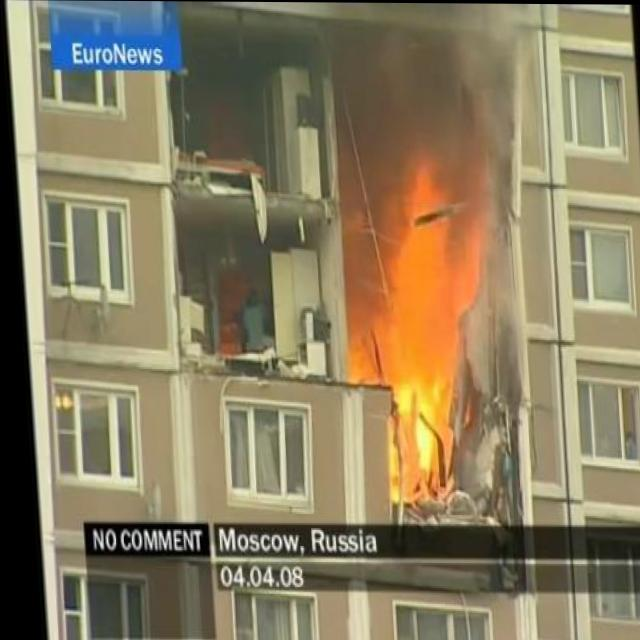fire: (375, 157, 463, 497)
